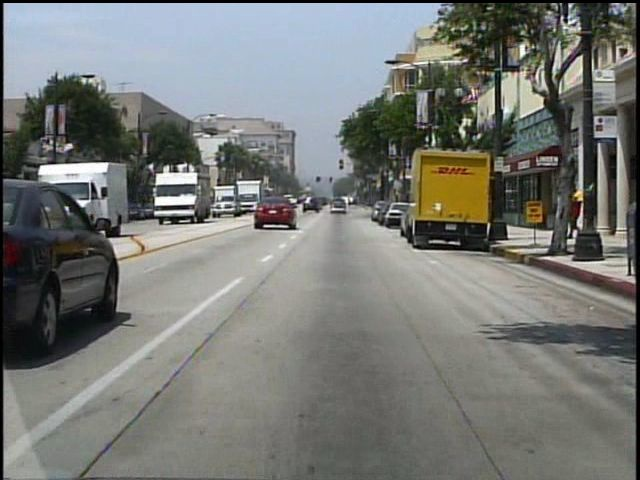person: (565, 182, 585, 241)
